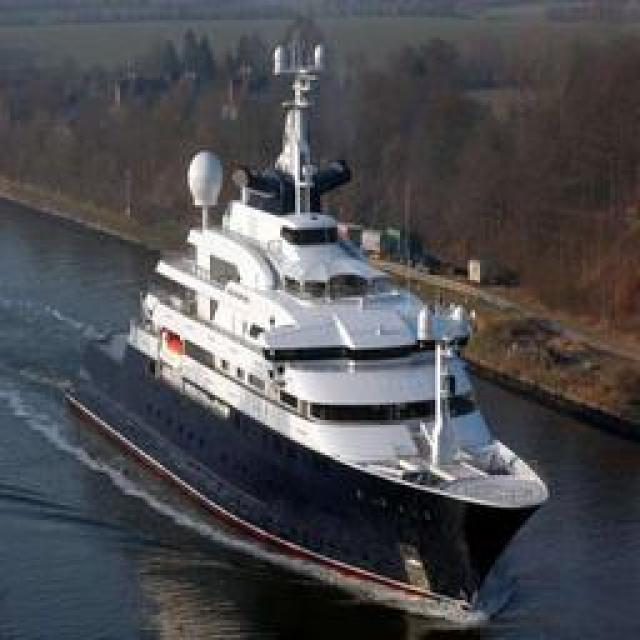CIV_Ship: (106, 74, 549, 606)
